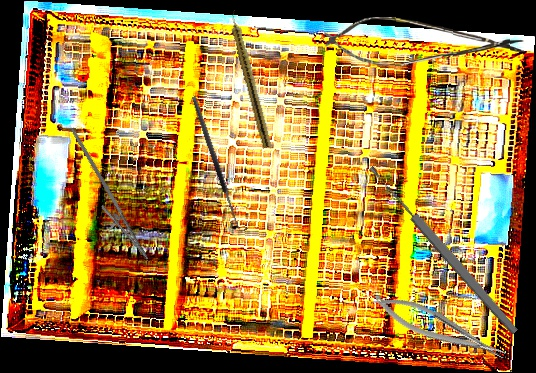Handpiece: (226, 9, 275, 149)
Hook Surgical: (190, 93, 249, 234)
Micro Scissor: (323, 16, 525, 68)
Needle Holder: (46, 126, 164, 268), (368, 284, 509, 372)
Surgical Spoon: (366, 162, 521, 337)
